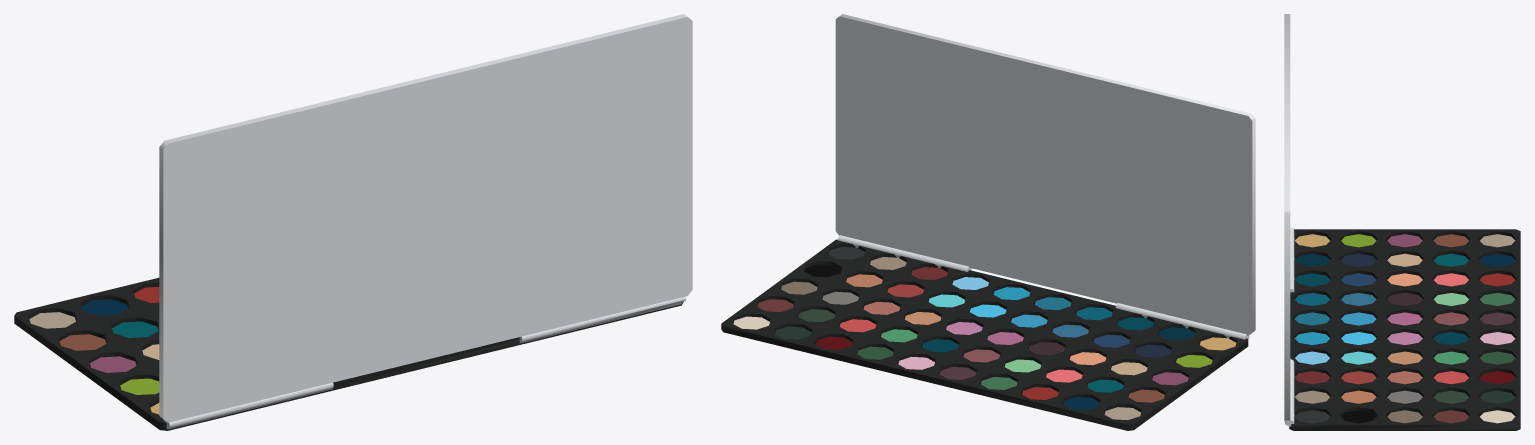
File: make_up_pallete_open_007.glb
The picture shows the model from 3 angles, left to right: view 1: azimuth 30°, elevation 25°; view 2: azimuth 150°, elevation 25°; view 3: azimuth 270°, elevation 25°; orthographic projection. The views are drawn at different scales.
Parts seen in each view (by area): view 1: make up_pallete_open.007; view 2: make up_pallete_open.007; view 3: make up_pallete_open.007.
Part boxes in pixels (x1,y1,x2,y2): make up_pallete_open.007: (14,14,692,430); make up_pallete_open.007: (721,14,1255,430); make up_pallete_open.007: (1284,14,1520,430).
Bounding box in the file's own units: 46.43 × 24.34 × 23.48.
2 materials, 2 textured.
